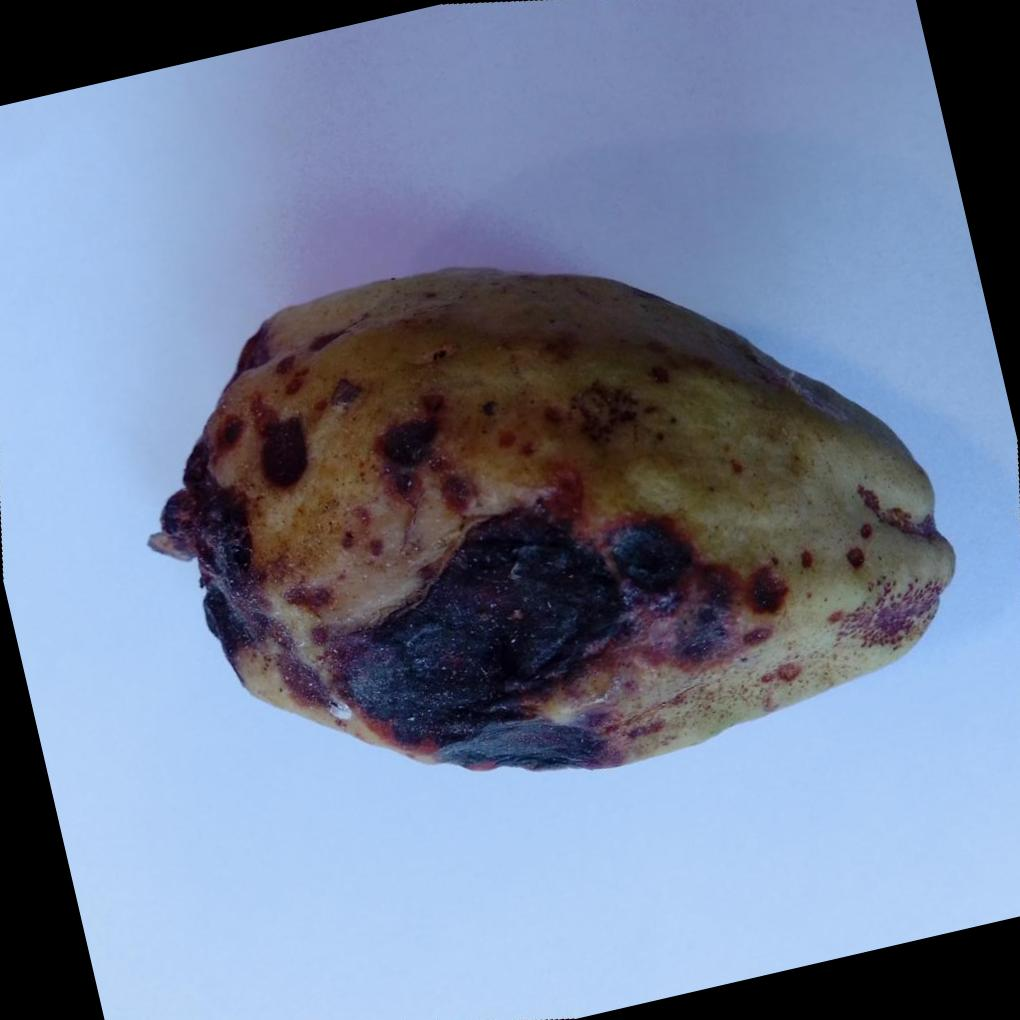FreshOrange: (151, 265, 961, 770)
